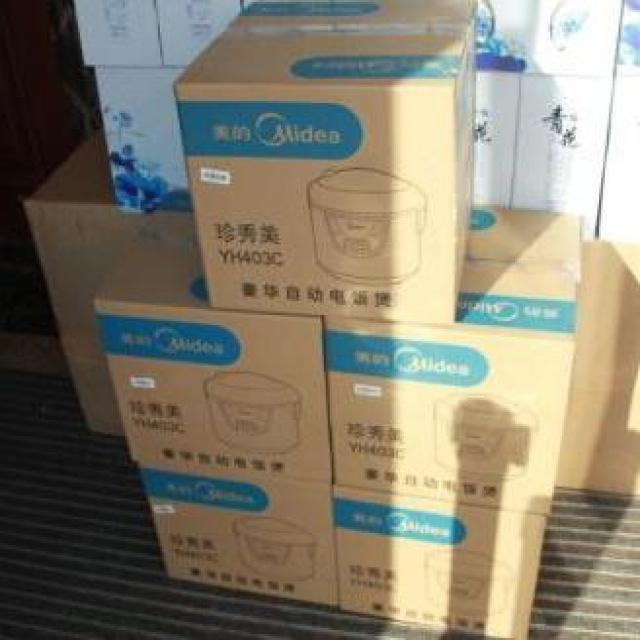cardboard: (338, 204, 585, 639), (177, 0, 483, 312), (89, 218, 335, 594)
